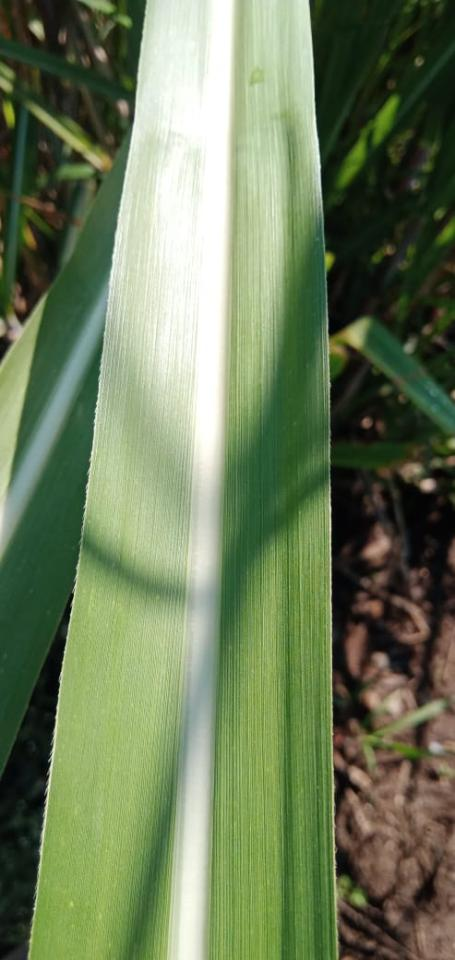Healthy: (29, 0, 335, 959), (0, 128, 129, 773)
